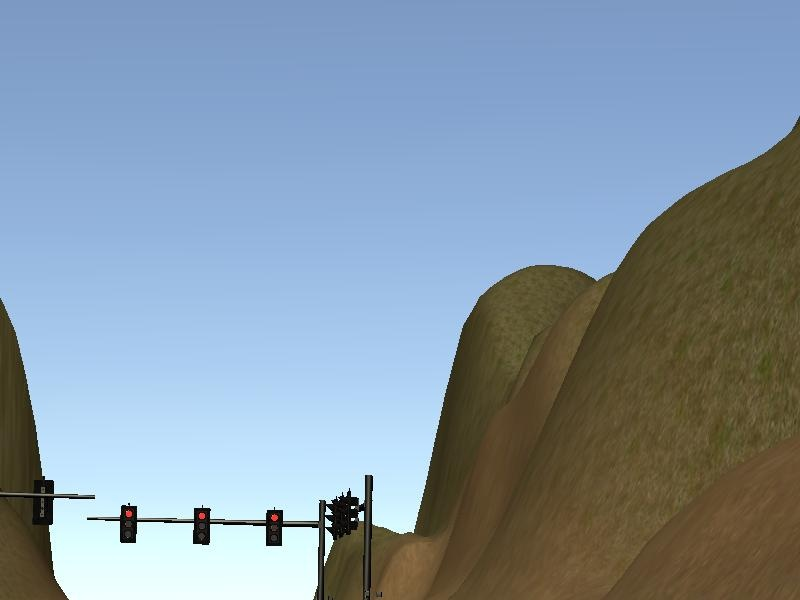red: (119, 506, 138, 545), (193, 506, 209, 545), (267, 509, 283, 545)
